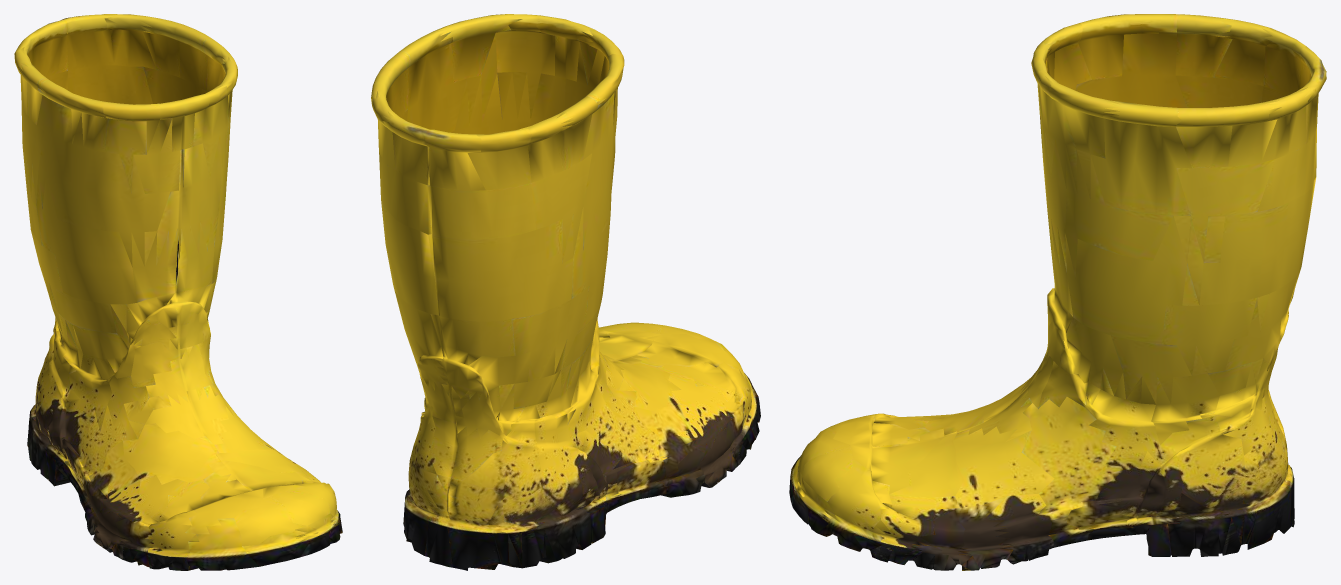
File: wellies-left.glb
3 renders of one model, left to right at view 1: azimuth 30°, elevation 25°; view 2: azimuth 150°, elevation 25°; view 3: azimuth 270°, elevation 25°, orthographic. The views are drawn at different scales.
Parts seen in each view (by area): view 1: wellies; view 2: wellies; view 3: wellies.
Boxes of the visible parts, x1,y1,x2,y2 form: wellies: (14,14,342,570); wellies: (371,14,760,570); wellies: (789,14,1326,570).
Bounding box in the file's own units: 0.22 × 0.4201 × 0.44.
1 material, 1 textured.
